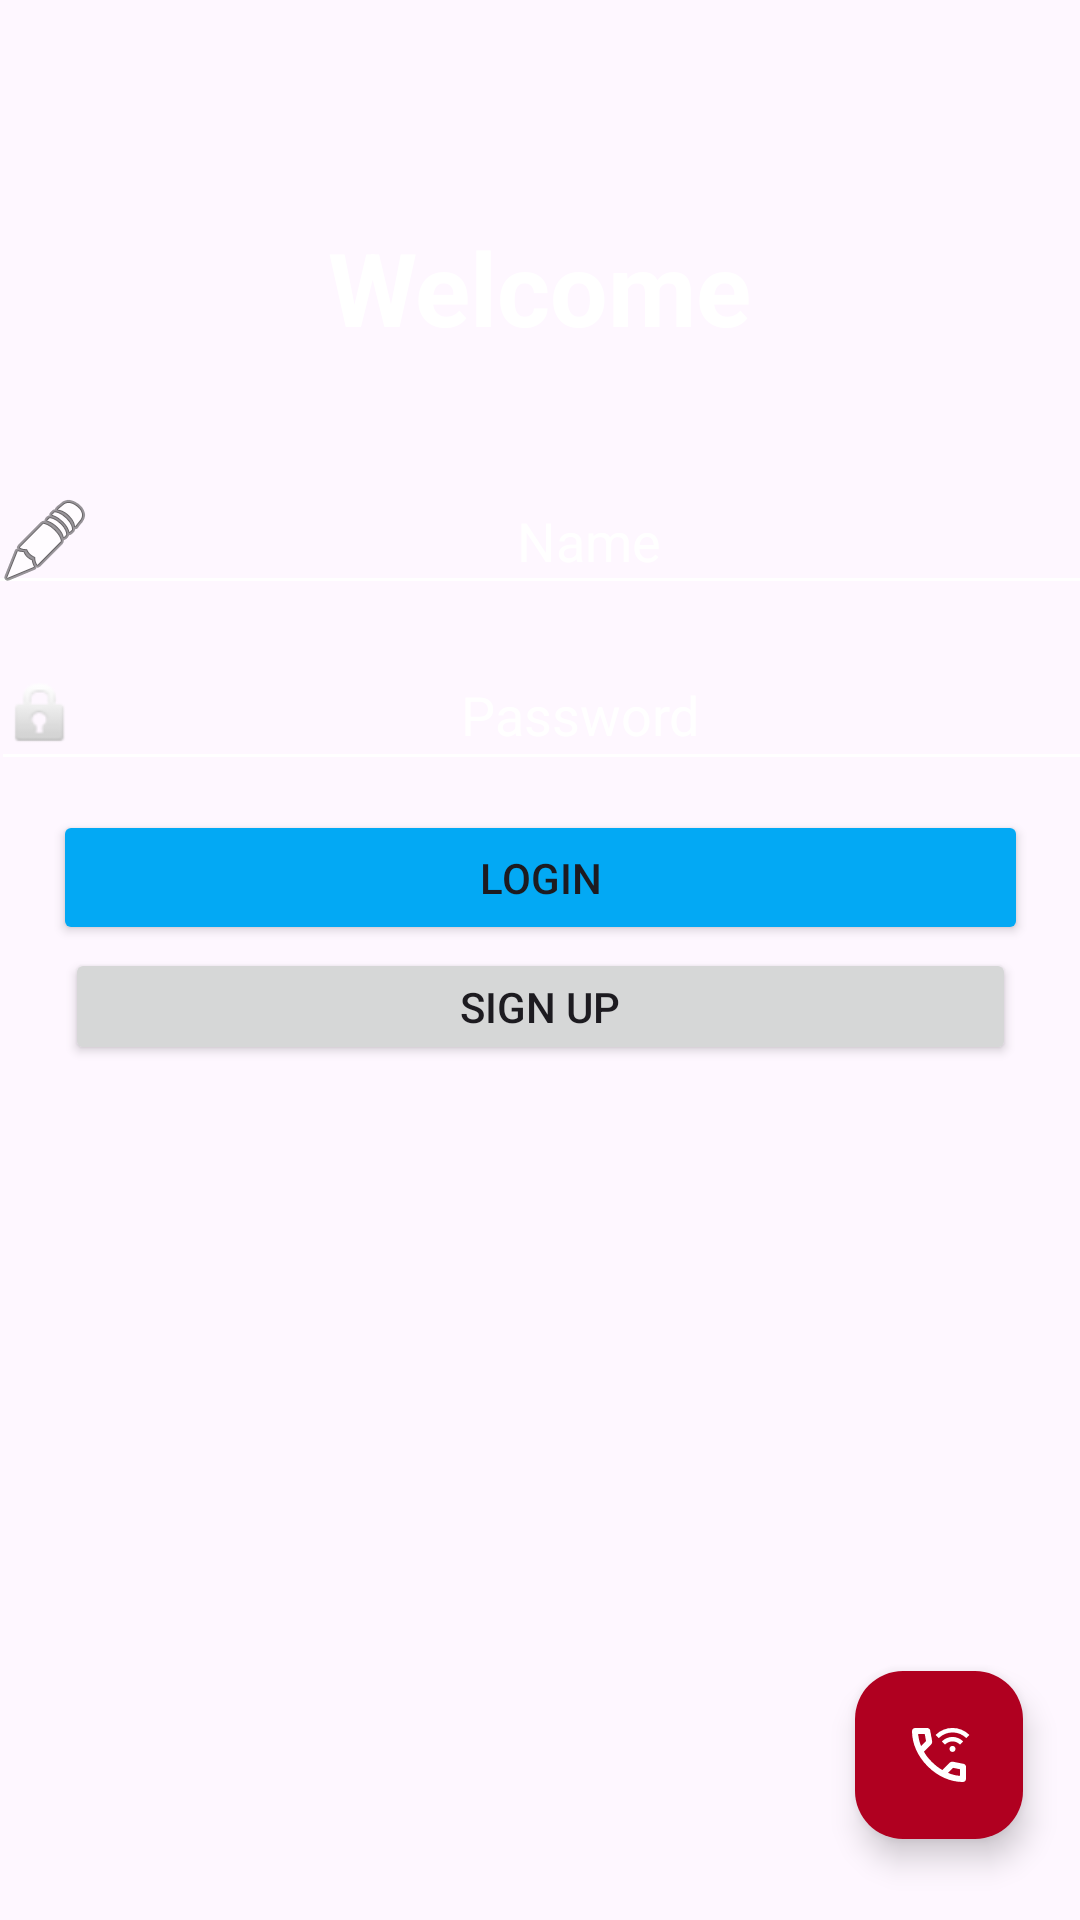

Where icons sit on this 1080 × 1920 app screen, as (x1, y1, x2, y2):
wifi calling bar: (855, 1671, 1023, 1839)
